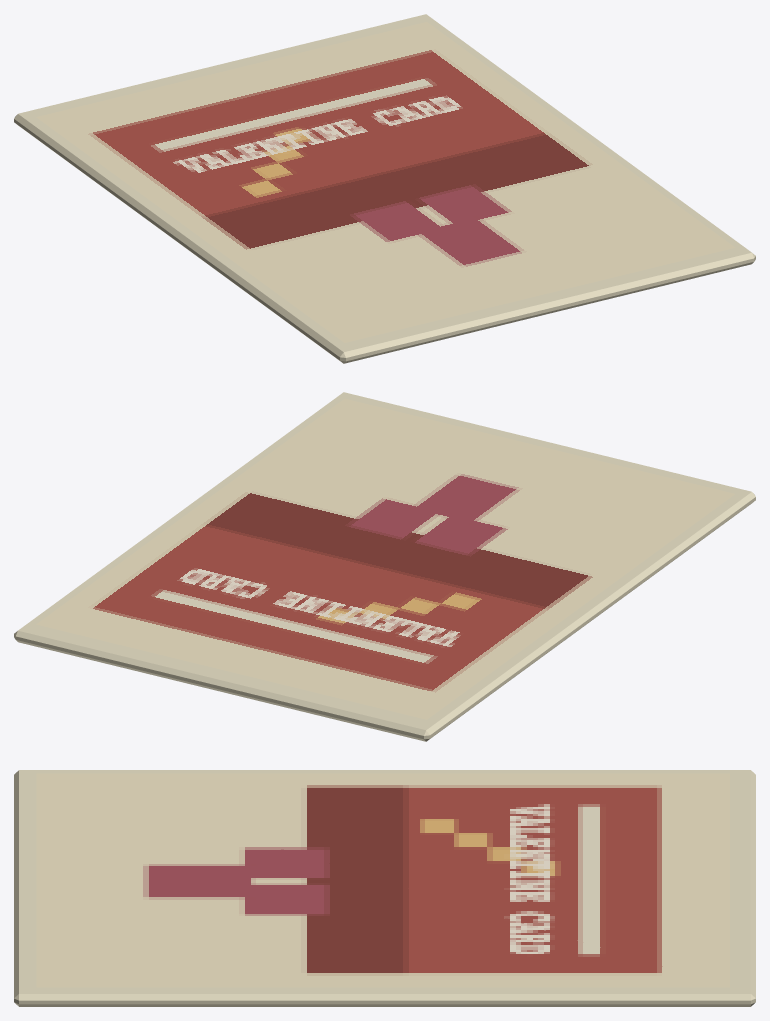
File: valentine_card.glb
3 renders of one model, top to bottom at view 1: azimuth 30°, elevation 25°; view 2: azimuth 150°, elevation 25°; view 3: azimuth 270°, elevation 25°, orthographic. The views are drawn at different scales.
Parts seen in each view (by area): view 1: block_printed face, block_paper or card stock; view 2: block_printed face, block_paper or card stock; view 3: block_printed face, block_paper or card stock.
Part boxes in pixels (x1=…): block_printed face: x1=36, y1=21, x2=735, y2=342; block_paper or card stock: x1=14, y1=14, x2=755, y2=363; block_printed face: x1=36, y1=398, x2=735, y2=719; block_paper or card stock: x1=14, y1=392, x2=755, y2=741; block_printed face: x1=36, y1=773, x2=729, y2=987; block_paper or card stock: x1=14, y1=770, x2=755, y2=1006.
Size of the model in its own units: 0.1033 by 0.00307 by 0.142.
Materials: 1 (1 with a texture image).
